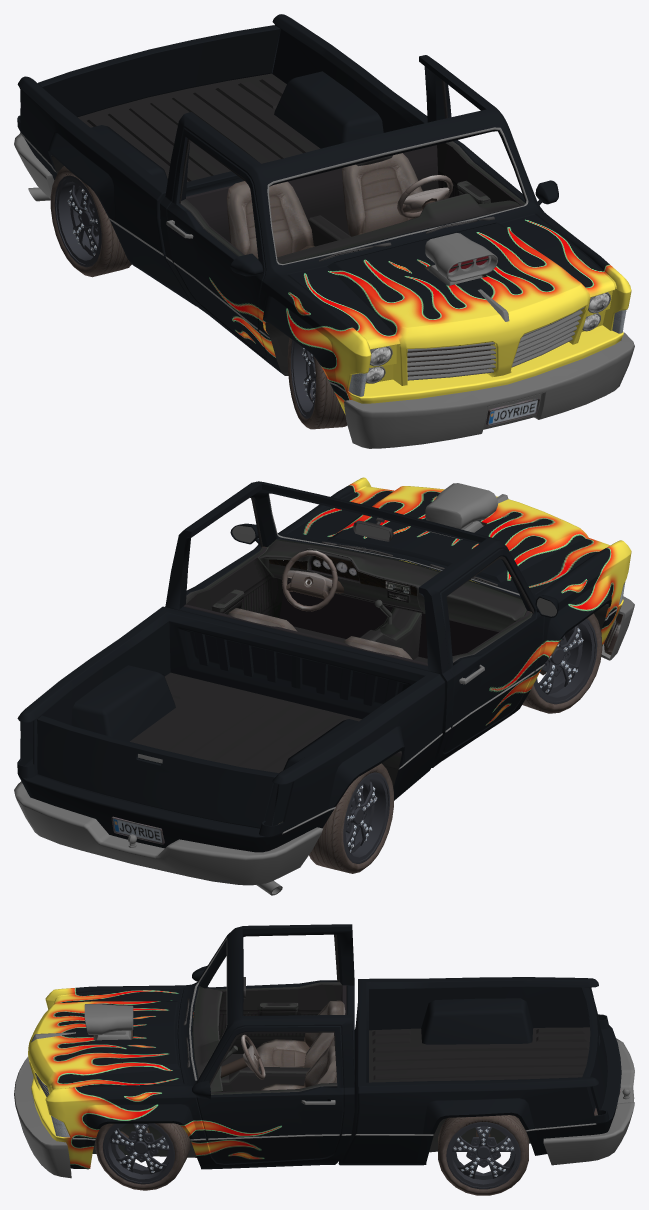
Rendered from Car.glb.
3 views of the same model, one above another, from view 1: azimuth 30°, elevation 25°; view 2: azimuth 150°, elevation 25°; view 3: azimuth 270°, elevation 25° (orthographic). The views are drawn at different scales.
Parts seen in each view (by area): view 1: node_id133, node_id130, node_id25, node_id149, node_id121, node_id53, node_id10, node_id43, node_id49, node_id59, node_id152, node_id118 (+5 smaller); view 2: node_id133, node_id130, node_id99, node_id43, node_id53, node_id10, node_id152, node_id59, node_id149, node_id121, node_id56, node_id46 (+2 smaller); view 3: node_id133, node_id130, node_id63, node_id149, node_id99, node_id73, node_id25, node_id10, node_id121, node_id69, node_id66, node_id79 (+2 smaller).
Boxes of the visible parts, x1,y1,x2,y2 form: node_id133: (17,14,631,414); node_id130: (51,73,525,375); node_id25: (344,332,634,448); node_id149: (226,153,422,258); node_id121: (20,127,610,392); node_id53: (54,175,101,267); node_id10: (425,233,497,285); node_id43: (291,340,315,418); node_id49: (303,359,347,429); node_id59: (56,166,131,277); node_id152: (397,175,453,218); node_id118: (366,293,609,382); node_id133: (17,477,631,852); node_id130: (130,497,608,823); node_id99: (14,781,322,885); node_id43: (534,618,597,704); node_id53: (343,772,389,863); node_id10: (425,483,497,539); node_id152: (282,550,337,611); node_id59: (309,763,388,873); node_id149: (228,608,412,659); node_id121: (138,494,617,834); node_id56: (341,766,393,870); node_id46: (531,615,602,710); node_id133: (28,924,621,1169); node_id130: (92,934,590,1157); node_id63: (446,1122,520,1189); node_id149: (257,1000,345,1090); node_id99: (543,1038,634,1165); node_id73: (103,1123,174,1184); node_id25: (14,1056,71,1178); node_id10: (84,1004,133,1040); node_id121: (31,937,596,1140); node_id69: (438,1115,528,1195); node_id66: (441,1118,525,1193); node_id79: (95,1123,190,1190).
Bounding box in the file's own units: 0.512 × 0.3221 × 1.06.
44 materials, 44 textured.
